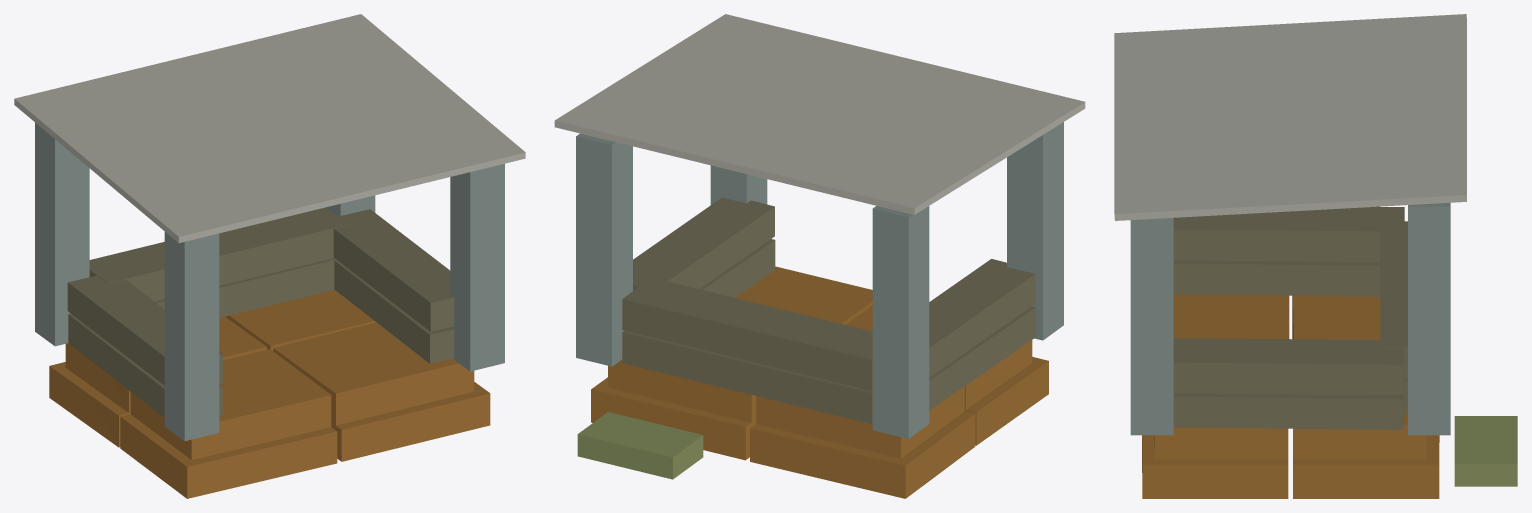
Rendered from SM_Nido_v2_LOD1.fbx.
3 renders of one model, left to right at view 1: azimuth 30°, elevation 25°; view 2: azimuth 150°, elevation 25°; view 3: azimuth 270°, elevation 25°, orthographic. The views are drawn at different scales.
Visible parts, largest first — view 1: SM_banqueta_tiro_v7_LOD1; view 2: SM_banqueta_tiro_v7_LOD1; view 3: SM_banqueta_tiro_v7_LOD1.
Boxes of the visible parts, box(x1,y1,x2,y2) form: SM_banqueta_tiro_v7_LOD1: box(14, 14, 525, 498); SM_banqueta_tiro_v7_LOD1: box(554, 14, 1085, 498); SM_banqueta_tiro_v7_LOD1: box(1114, 14, 1517, 498).
Bounding box in the file's own units: 3.4 × 2.76 × 3.2.
